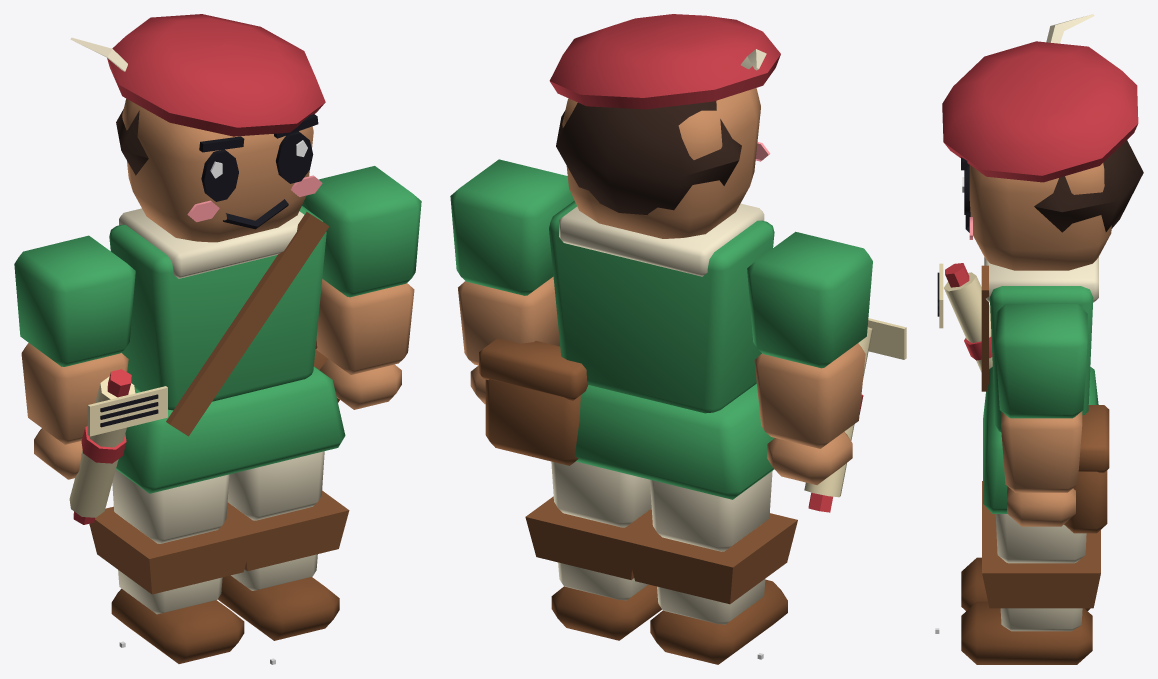
File: ScrollPage.fbx
3 views of the same model, side by side, from view 1: azimuth 30°, elevation 25°; view 2: azimuth 150°, elevation 25°; view 3: azimuth 270°, elevation 25° (orthographic). The views are drawn at different scales.
Visible parts, largest first — view 1: ScrollPage_UpperTorso_Tunic, ScrollPage_Beret_Beret, ScrollPage_LowerTorso_Tunic, ScrollPage_Head_Skin, ScrollPage_RightUpperArm_Tunic, ScrollPage_LeftUpperArm_Tunic, ScrollPage_RightLowerLeg_Leather, ScrollPage_LeftLowerArm_Skin, ScrollPage_UpperTorso_Leather, ScrollPage_RightLowerArm_Skin, ScrollPage_RightUpperLeg_Cream, ScrollPage_RightFoot_Boot (+15 smaller); view 2: ScrollPage_UpperTorso_Tunic, ScrollPage_Beret_Beret, ScrollPage_LowerTorso_Tunic, ScrollPage_Head_Hair, ScrollPage_RightUpperArm_Tunic, ScrollPage_LeftUpperArm_Tunic, ScrollPage_Satchel_Leather, ScrollPage_Head_Skin, ScrollPage_RightLowerLeg_Leather, ScrollPage_RightLowerArm_Skin, ScrollPage_RightUpperLeg_Cream, ScrollPage_UpperTorso_Cream (+10 smaller); view 3: ScrollPage_Beret_Beret, ScrollPage_Head_Skin, ScrollPage_LeftUpperArm_Tunic, ScrollPage_LeftLowerLeg_Leather, ScrollPage_LeftLowerArm_Skin, ScrollPage_LeftFoot_Boot, ScrollPage_Head_Hair, ScrollPage_Satchel_Leather, ScrollPage_LeftUpperLeg_Cream, ScrollPage_UpperTorso_Tunic, ScrollPage_LowerTorso_Tunic, ScrollPage_LeftHand_Skin (+9 smaller).
Part boxes in pixels (<box>): ScrollPage_UpperTorso_Tunic: <box>109,206,326,410</box>; ScrollPage_Beret_Beret: <box>107,14,325,136</box>; ScrollPage_LowerTorso_Tunic: <box>116,366,345,493</box>; ScrollPage_Head_Skin: <box>122,98,313,242</box>; ScrollPage_RightUpperArm_Tunic: <box>14,235,135,366</box>; ScrollPage_LeftUpperArm_Tunic: <box>302,166,421,297</box>; ScrollPage_RightLowerLeg_Leather: <box>89,506,253,594</box>; ScrollPage_LeftLowerArm_Skin: <box>316,279,414,374</box>; ScrollPage_UpperTorso_Leather: <box>166,212,329,436</box>; ScrollPage_RightLowerArm_Skin: <box>21,343,128,444</box>; ScrollPage_RightUpperLeg_Cream: <box>112,469,229,543</box>; ScrollPage_RightFoot_Boot: <box>111,588,244,663</box>; ScrollPage_UpperTorso_Tunic: <box>549,201,774,413</box>; ScrollPage_Beret_Beret: <box>549,14,780,109</box>; ScrollPage_LowerTorso_Tunic: <box>575,383,774,499</box>; ScrollPage_Head_Hair: <box>556,101,741,214</box>; ScrollPage_RightUpperArm_Tunic: <box>747,231,872,368</box>; ScrollPage_LeftUpperArm_Tunic: <box>450,159,574,295</box>; ScrollPage_Satchel_Leather: <box>479,338,588,465</box>; ScrollPage_Head_Skin: <box>562,88,760,238</box>; ScrollPage_RightLowerLeg_Leather: <box>624,513,797,604</box>; ScrollPage_RightLowerArm_Skin: <box>754,343,865,448</box>; ScrollPage_RightUpperLeg_Cream: <box>650,471,772,551</box>; ScrollPage_UpperTorso_Cream: <box>559,203,764,276</box>; ScrollPage_Beret_Beret: <box>942,41,1138,182</box>; ScrollPage_Head_Skin: <box>968,163,1111,270</box>; ScrollPage_LeftUpperArm_Tunic: <box>995,304,1087,418</box>; ScrollPage_LeftLowerLeg_Leather: <box>982,529,1100,608</box>; ScrollPage_LeftLowerArm_Skin: <box>1001,411,1082,492</box>; ScrollPage_LeftFoot_Boot: <box>961,601,1092,664</box>; ScrollPage_Head_Hair: <box>1034,140,1143,232</box>; ScrollPage_Satchel_Leather: <box>1064,405,1109,533</box>; ScrollPage_LeftUpperLeg_Cream: <box>995,514,1086,563</box>; ScrollPage_UpperTorso_Tunic: <box>990,286,1093,431</box>; ScrollPage_LowerTorso_Tunic: <box>983,367,1098,513</box>; ScrollPage_LeftHand_Skin: <box>1007,486,1075,526</box>.
Bounding box in the file's own units: 3.88 × 5.97 × 2.
